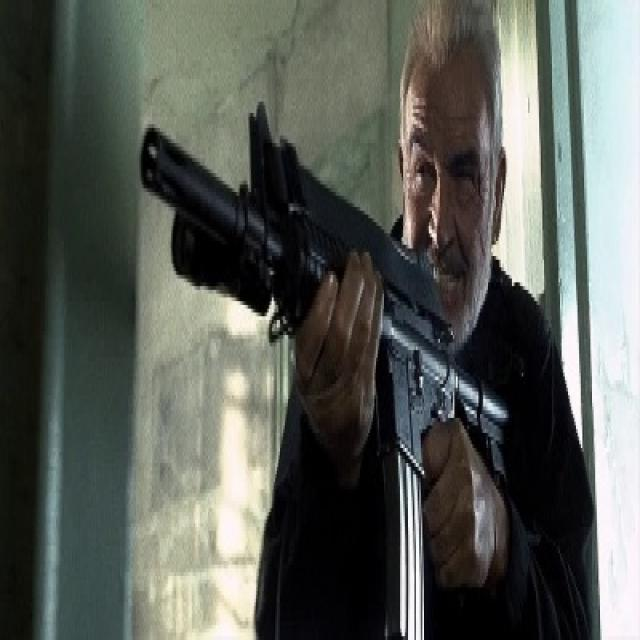rifle: (132, 95, 516, 640)
